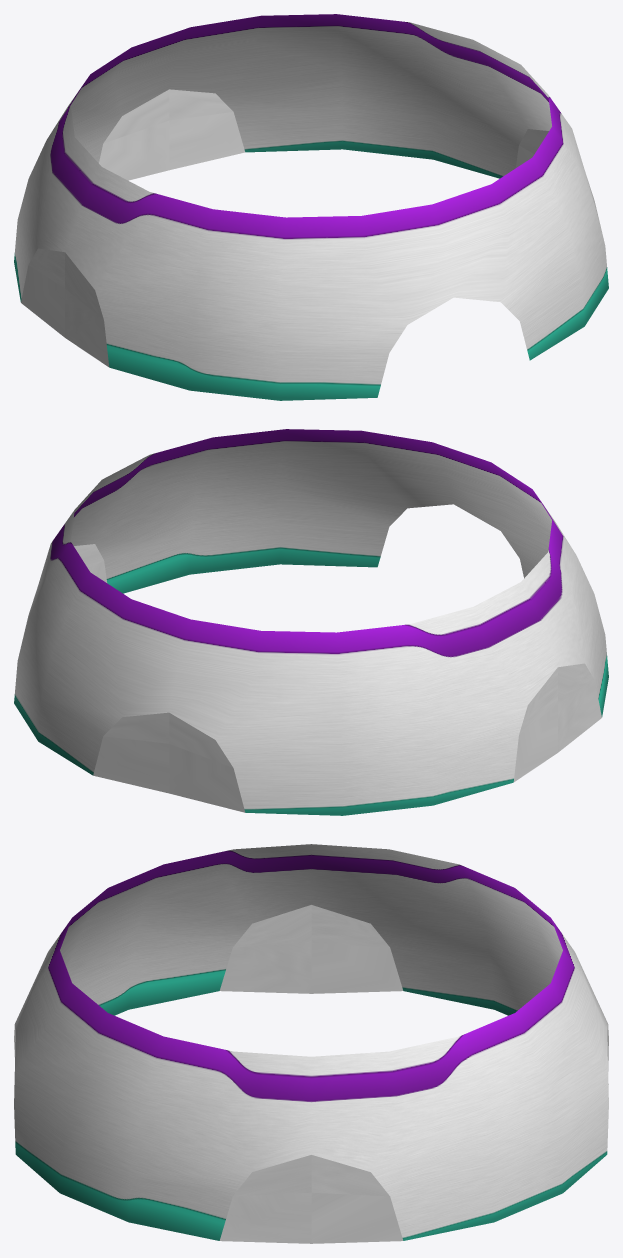
Rendered from Base1Opening.fbx.
3 renders of one model, top to bottom at view 1: azimuth 30°, elevation 25°; view 2: azimuth 150°, elevation 25°; view 3: azimuth 270°, elevation 25°, orthographic. The views are drawn at different scales.
Visible parts, largest first — view 1: pSphere16; view 2: pSphere16; view 3: pSphere16.
Boxes of the visible parts, left/top/right/bottom form: pSphere16: left=14, top=14, right=608, bottom=400; pSphere16: left=14, top=429, right=608, bottom=815; pSphere16: left=14, top=844, right=608, bottom=1243.
Bounding box in the file's own units: 12.65 × 3.97 × 12.72.
